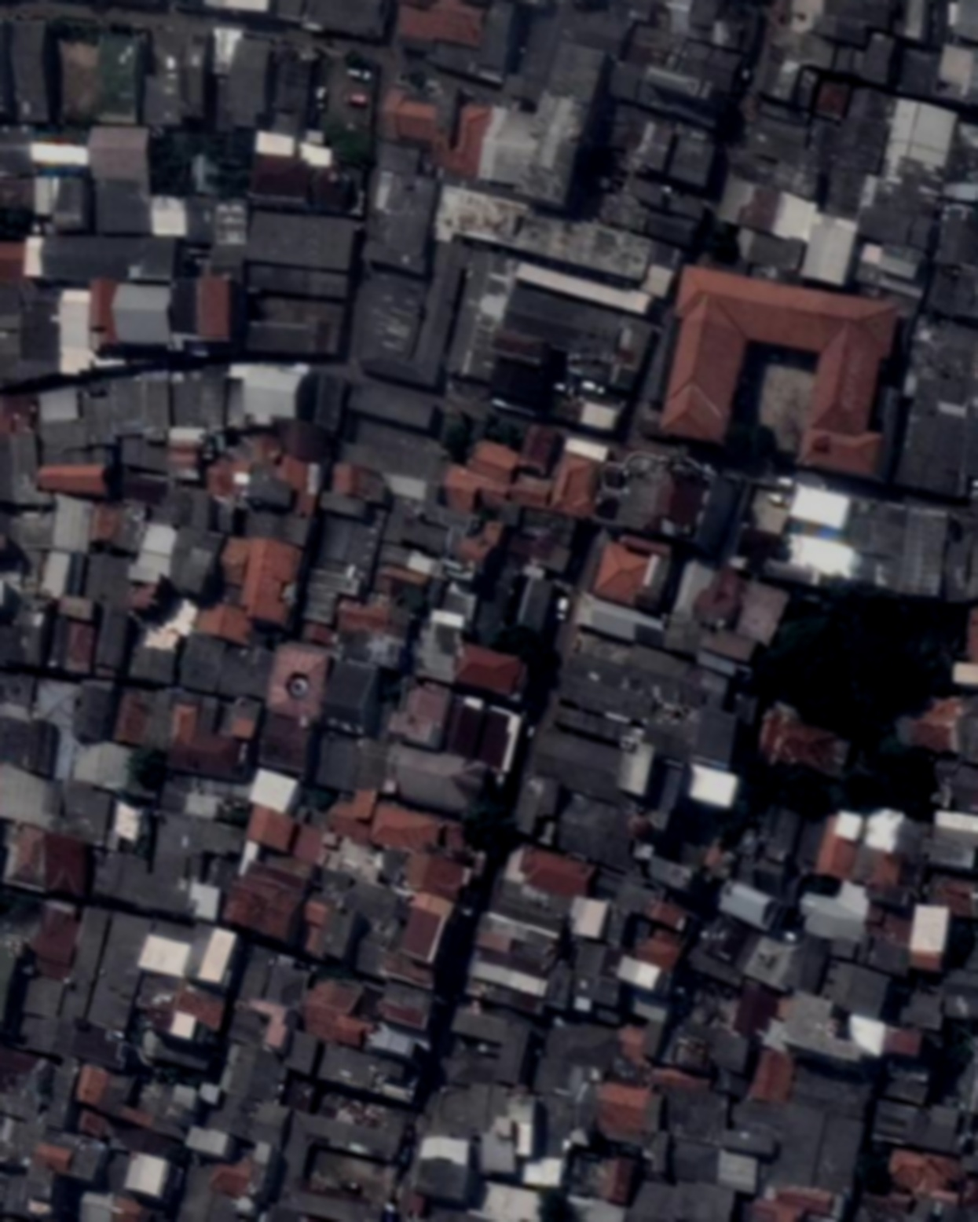building: (651, 268, 908, 482), (543, 611, 767, 784), (472, 29, 608, 207), (433, 184, 654, 284), (296, 861, 460, 994), (95, 798, 245, 935), (349, 222, 472, 387), (847, 85, 962, 254), (19, 901, 127, 1072), (654, 550, 790, 684), (599, 437, 742, 559), (278, 1090, 410, 1222), (767, 1055, 877, 1203), (893, 313, 978, 501), (841, 487, 978, 599), (750, 0, 874, 117), (494, 839, 634, 942), (418, 1073, 549, 1181), (289, 473, 395, 603), (531, 710, 666, 812), (723, 94, 843, 204), (704, 170, 826, 276), (462, 907, 579, 1017), (375, 73, 493, 178), (599, 880, 702, 1000), (807, 85, 895, 223), (438, 999, 547, 1102), (280, 1027, 423, 1105), (609, 50, 741, 134), (386, 741, 510, 829), (223, 939, 316, 1055), (444, 248, 522, 384), (367, 140, 446, 273), (502, 285, 626, 366), (746, 701, 853, 791), (658, 1077, 780, 1155), (552, 787, 661, 873), (439, 994, 542, 1084), (225, 854, 321, 949), (165, 690, 262, 783), (41, 1051, 140, 1142), (247, 130, 357, 209), (533, 1011, 622, 1107), (227, 532, 312, 632), (89, 908, 157, 1033), (512, 260, 655, 317), (0, 820, 100, 901), (736, 916, 834, 996), (783, 991, 879, 1072), (792, 865, 881, 952), (140, 23, 213, 128), (872, 1085, 978, 1156), (882, 1136, 978, 1214), (814, 810, 905, 891), (437, 431, 519, 520), (592, 530, 683, 610), (818, 77, 895, 171), (248, 208, 361, 272), (628, 118, 722, 194), (71, 728, 169, 800), (561, 936, 647, 1015), (442, 690, 525, 771), (318, 724, 401, 804), (617, 175, 709, 247), (542, 431, 614, 522), (926, 196, 978, 322), (37, 231, 178, 277), (4, 281, 64, 389), (679, 1005, 763, 1081), (588, 1067, 670, 1144), (263, 637, 333, 726), (218, 33, 279, 134), (250, 295, 347, 358), (0, 15, 56, 124), (148, 362, 232, 434), (294, 976, 379, 1047), (109, 672, 183, 752), (818, 953, 898, 1027), (625, 1171, 741, 1222), (661, 31, 749, 98), (200, 1082, 288, 1148), (892, 684, 971, 757), (85, 28, 144, 125), (228, 361, 316, 426), (400, 835, 479, 907), (344, 377, 441, 435), (220, 1035, 299, 1106), (381, 669, 451, 749), (153, 187, 249, 244), (550, 0, 642, 59), (106, 371, 179, 444), (318, 653, 385, 732), (722, 967, 788, 1046), (255, 708, 330, 777), (409, 1127, 478, 1202), (480, 354, 558, 420), (0, 760, 70, 833), (713, 868, 788, 936), (394, 0, 488, 54), (40, 380, 114, 448), (168, 524, 227, 605), (380, 498, 457, 560), (800, 205, 857, 287), (452, 641, 531, 700), (367, 801, 443, 862), (137, 908, 202, 979), (266, 410, 341, 471), (48, 285, 98, 376), (71, 666, 127, 747), (410, 606, 468, 684), (394, 887, 453, 963), (787, 63, 858, 126), (472, 0, 526, 82), (304, 900, 370, 966), (109, 282, 174, 348), (186, 926, 248, 995), (507, 565, 565, 638), (248, 262, 358, 300), (219, 634, 280, 702), (74, 540, 135, 608), (735, 846, 803, 905), (175, 1165, 246, 1221), (293, 368, 352, 434), (785, 531, 862, 581), (813, 808, 865, 882), (322, 781, 382, 845), (175, 625, 230, 693), (0, 715, 60, 777), (86, 123, 152, 179), (849, 26, 906, 88), (906, 897, 948, 980), (193, 597, 261, 648), (335, 593, 412, 638), (0, 430, 46, 505), (471, 1173, 541, 1222), (374, 980, 437, 1034), (153, 484, 223, 532), (752, 803, 806, 865), (125, 1143, 182, 1201), (91, 602, 135, 676), (749, 1042, 799, 1107), (788, 482, 854, 531), (363, 1019, 426, 1070), (694, 910, 751, 966), (596, 1143, 645, 1208), (41, 831, 90, 896), (242, 802, 302, 855), (0, 607, 53, 667), (303, 0, 388, 37), (896, 45, 952, 101), (326, 460, 392, 507), (935, 39, 978, 111), (246, 765, 304, 817), (48, 173, 96, 235), (95, 180, 153, 231), (240, 468, 299, 518), (619, 19, 674, 72), (50, 616, 100, 674), (37, 463, 110, 502), (79, 1186, 158, 1222), (49, 494, 96, 554), (685, 761, 742, 810), (862, 902, 919, 951), (198, 271, 237, 340), (922, 870, 978, 918), (859, 240, 924, 281), (520, 419, 566, 476), (31, 677, 80, 730), (934, 757, 978, 815), (883, 1058, 935, 1105), (791, 812, 832, 871), (617, 1021, 668, 1067), (945, 117, 978, 188), (0, 936, 25, 1028), (67, 1135, 111, 1186), (9, 1167, 53, 1218), (509, 467, 557, 513), (809, 75, 855, 122), (735, 524, 784, 568), (924, 835, 978, 874), (0, 234, 43, 282), (288, 821, 332, 867), (1, 174, 50, 213), (761, 556, 822, 587), (931, 808, 978, 848), (941, 969, 978, 1019), (38, 549, 74, 600), (127, 644, 175, 682), (183, 880, 225, 923), (301, 582, 340, 626), (872, 270, 924, 303), (185, 1123, 233, 1158), (639, 260, 679, 302), (901, 991, 944, 1030), (10, 511, 53, 550), (0, 671, 39, 713), (30, 1139, 75, 1175), (883, 1024, 926, 1059), (898, 0, 932, 41), (0, 1175, 31, 1218), (950, 0, 978, 42), (56, 594, 98, 622), (874, 54, 901, 88), (876, 32, 888, 42)
tree: (813, 572, 978, 766), (751, 595, 860, 711), (738, 768, 884, 820), (875, 748, 943, 829), (195, 131, 256, 208), (489, 620, 560, 672), (459, 798, 518, 856), (320, 118, 385, 166), (723, 413, 777, 469), (151, 132, 192, 193), (431, 417, 479, 466), (679, 875, 725, 920), (125, 744, 168, 787), (943, 914, 978, 964), (482, 413, 526, 448), (882, 980, 914, 1024), (302, 777, 338, 811), (136, 813, 160, 855), (224, 800, 256, 830), (2, 206, 28, 236), (179, 254, 206, 282), (13, 887, 44, 911), (164, 1063, 189, 1089), (118, 789, 144, 808), (343, 48, 365, 67), (409, 70, 427, 87), (36, 1076, 52, 1091)
